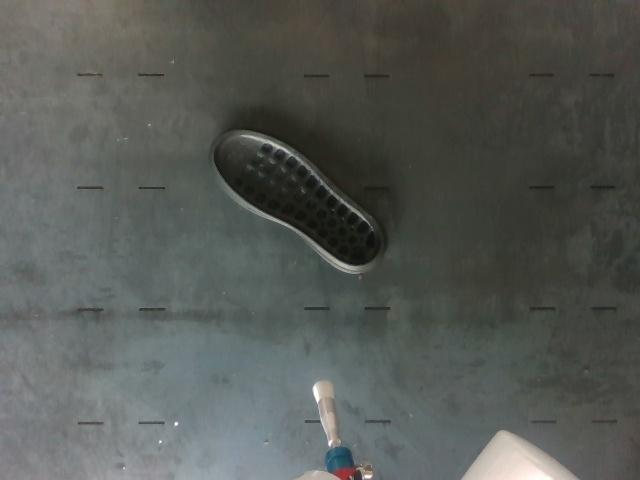shoes: (212, 134, 382, 267)
